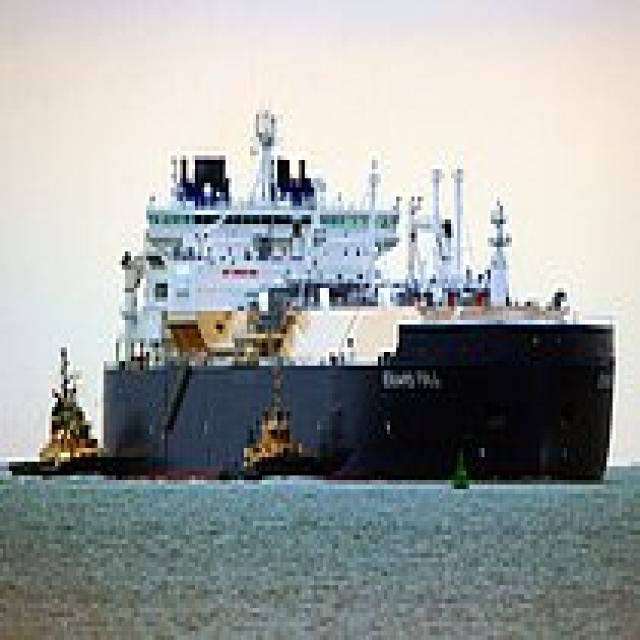Tanker: (98, 100, 612, 476)
